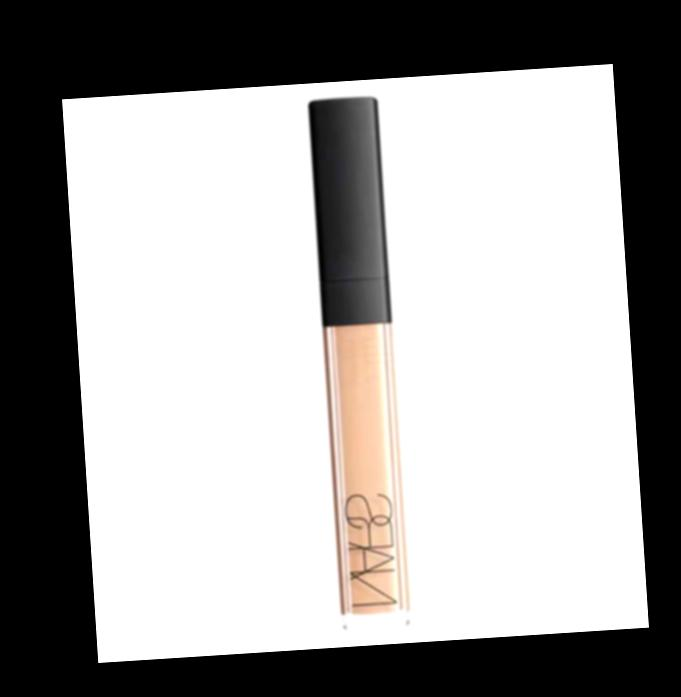cosmetic: (304, 96, 411, 633)
